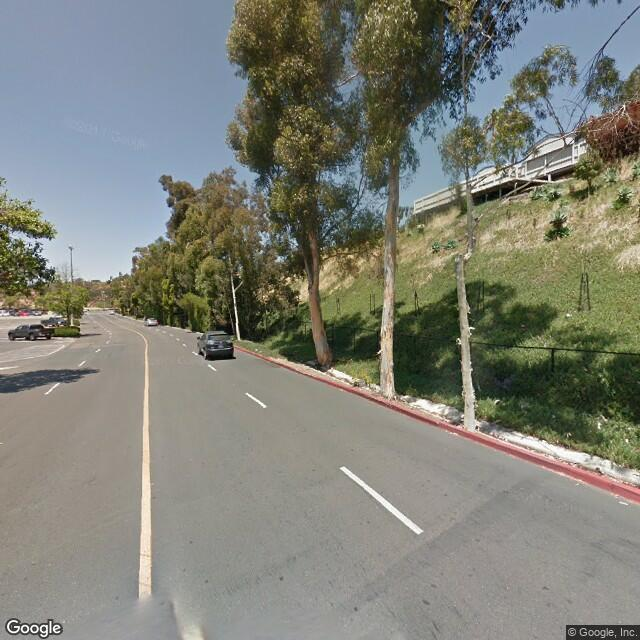litter: (597, 416, 610, 431), (596, 467, 607, 476), (564, 312, 578, 318), (564, 431, 573, 440), (494, 397, 502, 406), (446, 431, 460, 435), (520, 323, 526, 330), (255, 348, 263, 353)
